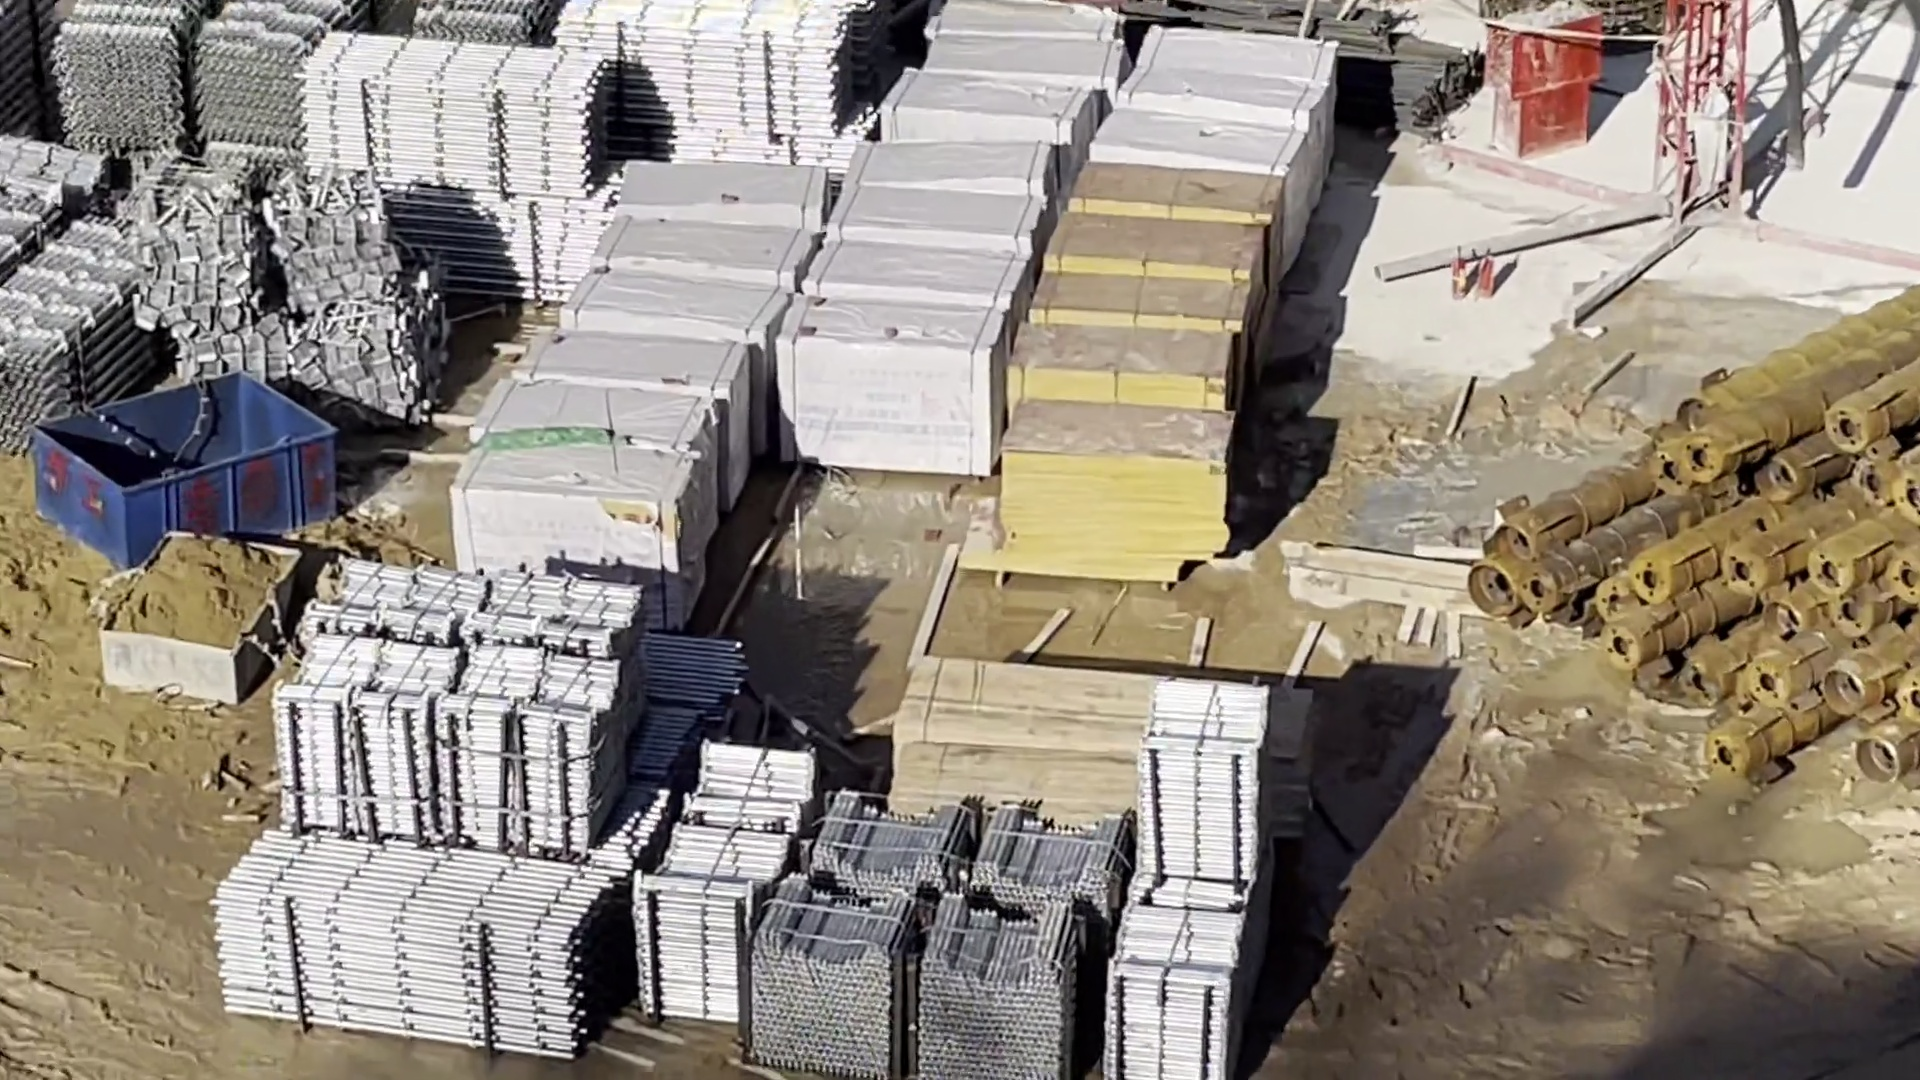board: (1004, 162, 1247, 568), (906, 658, 1139, 825)
hopper: (33, 376, 336, 562), (100, 533, 301, 705)
scaffold: (746, 803, 1121, 1080), (285, 572, 636, 851), (215, 835, 629, 1062), (309, 37, 609, 287), (1109, 688, 1261, 1080), (559, 3, 870, 165), (640, 746, 804, 1030), (58, 1, 369, 146), (1, 214, 138, 444)
